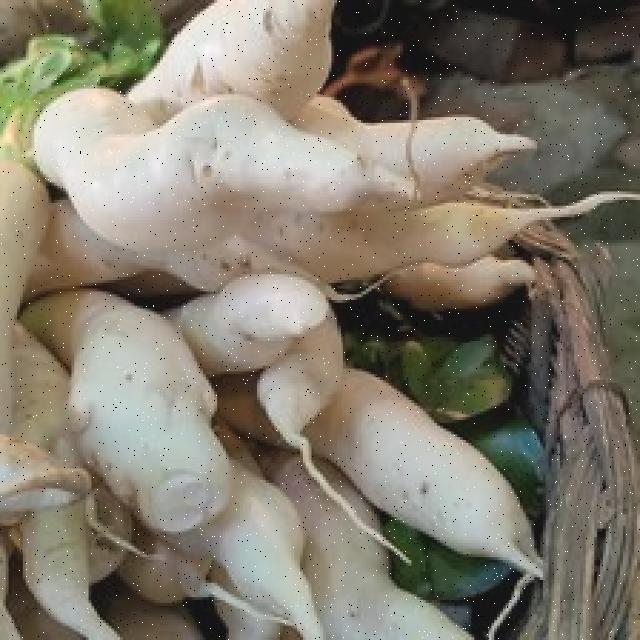Radish: (0, 260, 536, 640), (0, 43, 456, 274)
